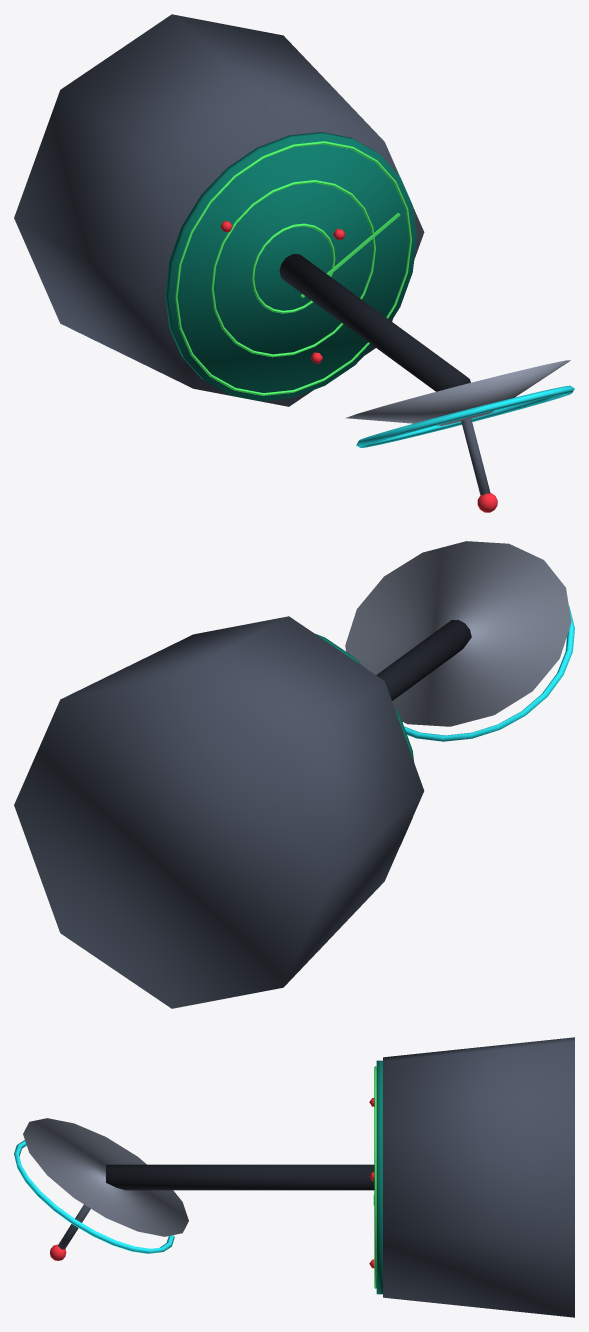
File: shooter-scanner.glb
The picture shows the model from 3 angles, top to bottom: view 1: azimuth 30°, elevation 25°; view 2: azimuth 150°, elevation 25°; view 3: azimuth 270°, elevation 25°; orthographic projection. The views are drawn at different scales.
Parts seen in each view (by area): view 1: Model Mesh, Spin Dish Mesh; view 2: Model Mesh, Spin Dish Mesh; view 3: Model Mesh, Spin Dish Mesh.
Boxes of the visible parts, left/top/right/bottom form: Model Mesh: left=14, top=14, right=470, bottom=406; Spin Dish Mesh: left=345, top=360, right=574, bottom=512; Model Mesh: left=14, top=616, right=471, bottom=1008; Spin Dish Mesh: left=345, top=541, right=574, bottom=741; Model Mesh: left=106, top=1037, right=574, bottom=1317; Spin Dish Mesh: left=14, top=1118, right=188, bottom=1260.
Size of the model in its own units: 1.4 by 1.4 by 2.63.
Materials: 2 (2 with a texture image).
